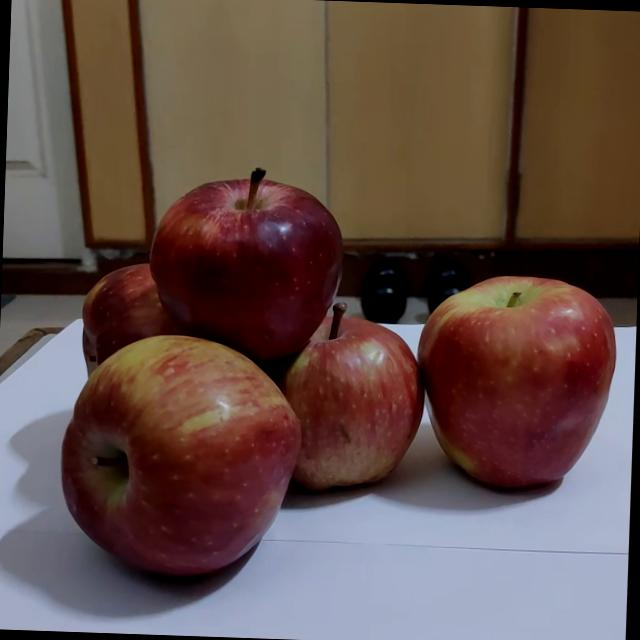apple: (47, 337, 304, 596), (391, 251, 640, 513), (132, 152, 356, 378), (248, 301, 436, 507), (54, 259, 252, 405)
